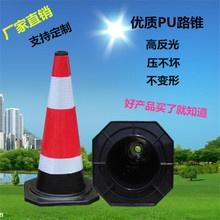cone_barrel: (32, 53, 89, 201)
